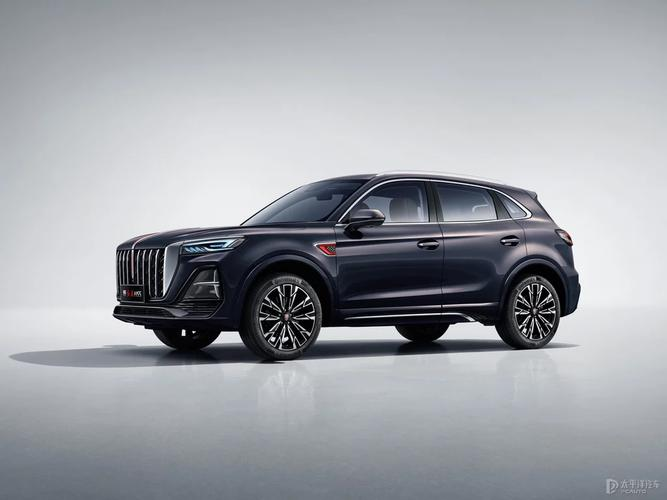汽车: (98, 164, 586, 382)
